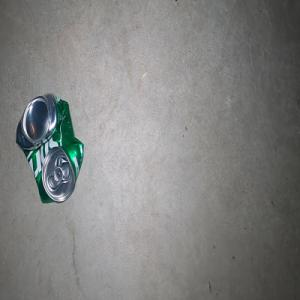SodaCan: (15, 92, 83, 203)
